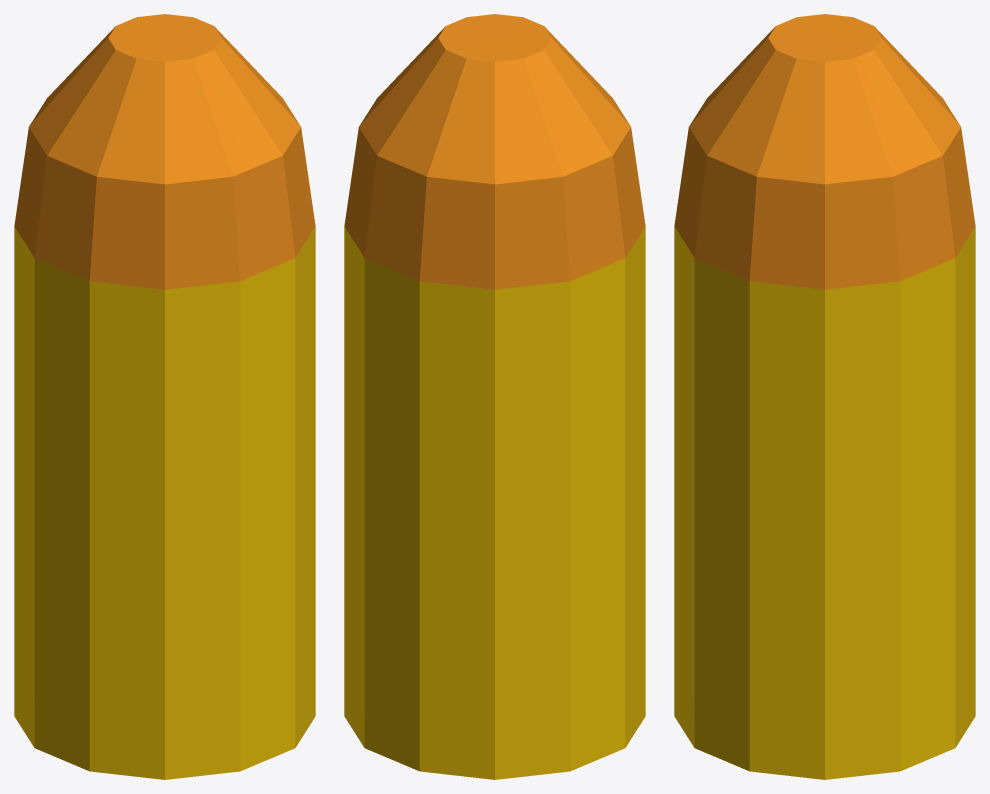
File: Gun_Bullet.fbx
3 views of the same model, side by side, from view 1: azimuth 30°, elevation 25°; view 2: azimuth 150°, elevation 25°; view 3: azimuth 270°, elevation 25° (orthographic).
Parts seen in each view (by area): view 1: Cylinder; view 2: Cylinder; view 3: Cylinder.
Part boxes in pixels (x1,y1,x2,y2): Cylinder: (14,14,315,779); Cylinder: (344,14,645,779); Cylinder: (674,14,975,779).
Size of the model in its own units: 16.84 by 41.83 by 16.84.
